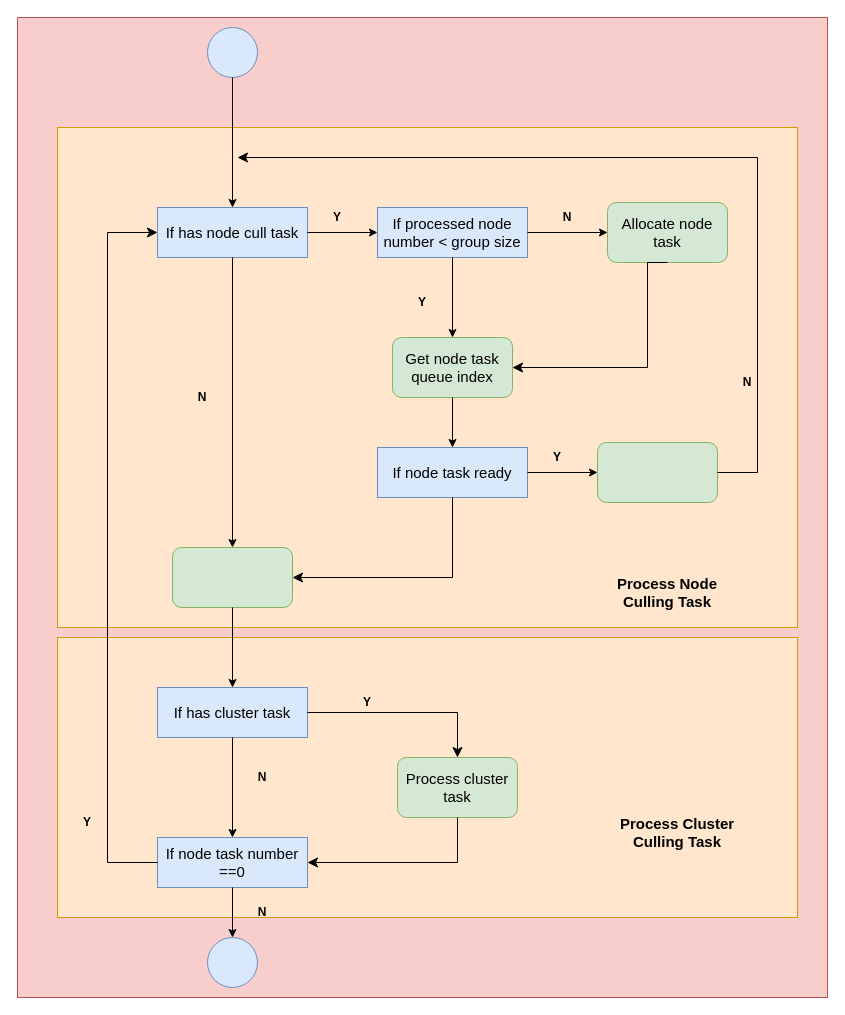
The diagram is 845 pixels wide and 1015 high, and some of its shapes have lost their labels. The centre of each missing label's shape, as x and y in pixels:
Allocate cluster task: pixel 232 577
End: pixel 232 962
Process node task: pixel 657 472
Start: pixel 232 52
